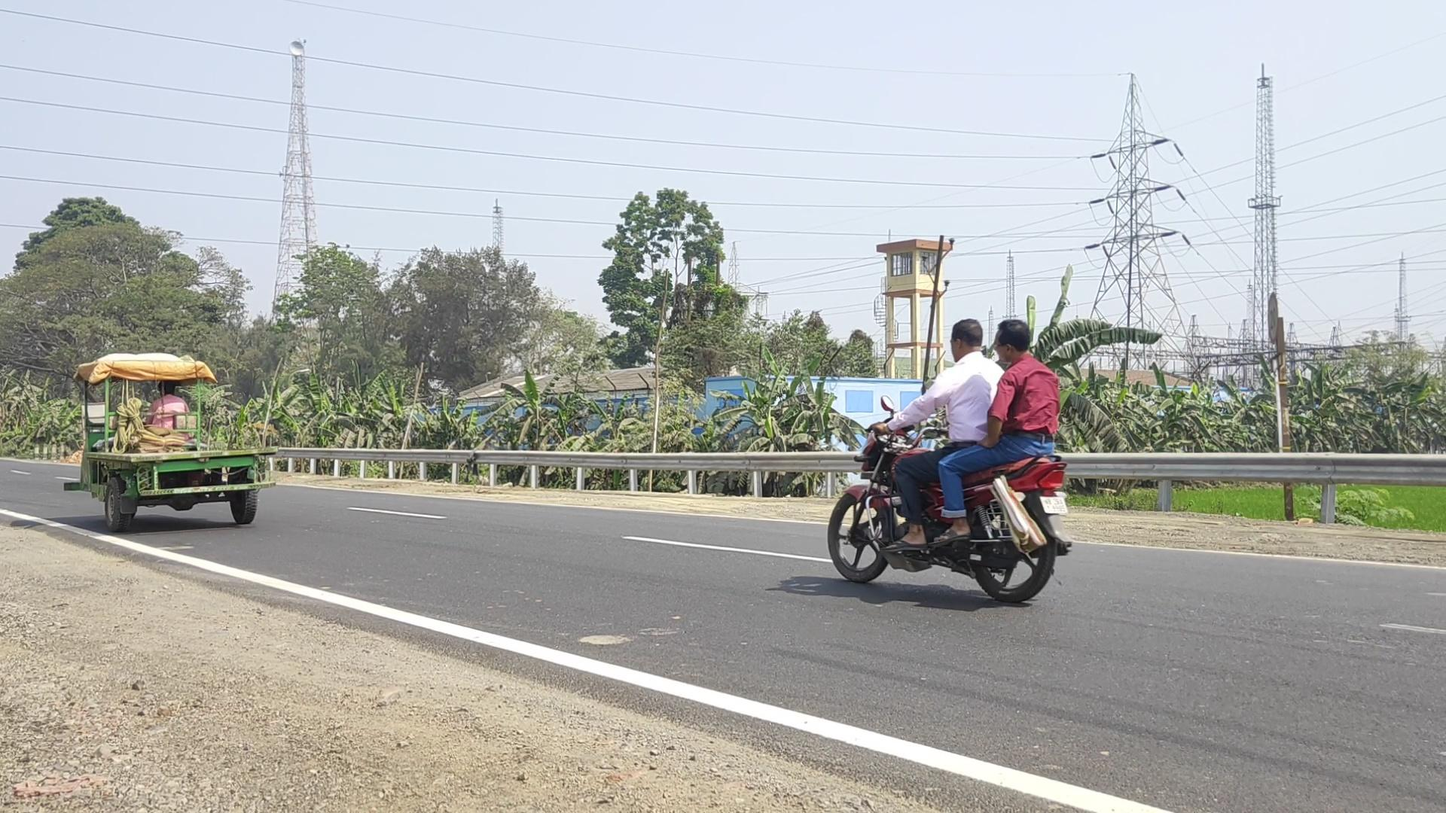bike: (827, 318, 1074, 604)
